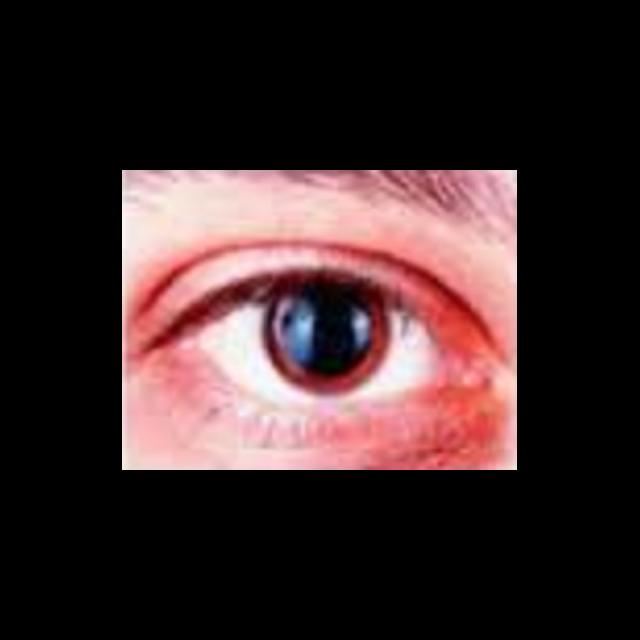eye: (201, 288, 448, 402)
iris: (266, 292, 393, 395)
